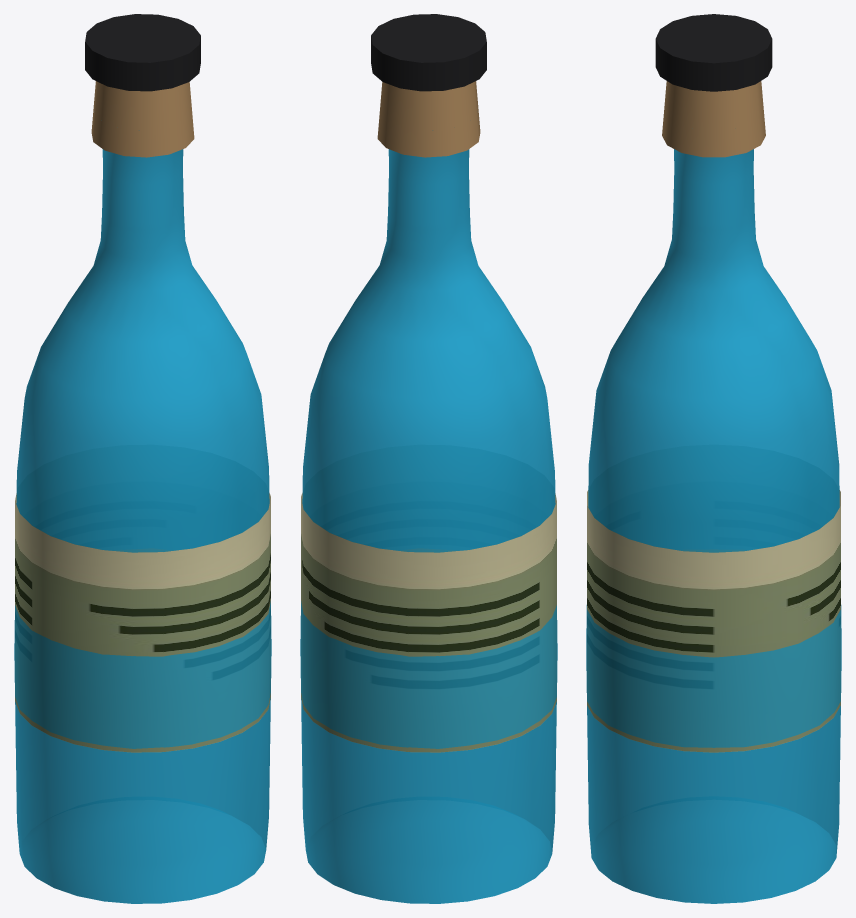
The model's file is bottle_gin_blue_flask.glb.
3 views of the same model, side by side, from view 1: azimuth 30°, elevation 25°; view 2: azimuth 150°, elevation 25°; view 3: azimuth 270°, elevation 25° (orthographic).
Visible parts, largest first — view 1: bottle_gin_blue_flask; view 2: bottle_gin_blue_flask; view 3: bottle_gin_blue_flask.
Part boxes in pixels (<box>): bottle_gin_blue_flask: <box>14,14,271,903</box>; bottle_gin_blue_flask: <box>300,14,557,903</box>; bottle_gin_blue_flask: <box>586,14,841,903</box>.
Size of the model in its own units: 0.0816 by 0.2846 by 0.081.
4 materials, 1 textured.
